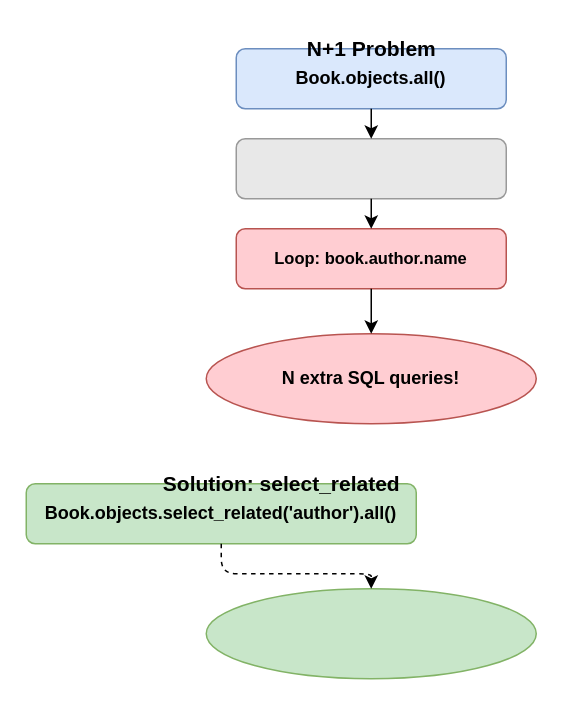
Image size: 563x705. Some labels were removed from this diagram. The box of each missing label's shape, as (x1, y1, x2, y2) in pixels:
1 SQL: SELECT * FROM book LEFT JOIN author All data in one query!: (205, 587, 536, 679)
1 SQL: SELECT * FROM book Returns N books: (235, 137, 506, 199)
